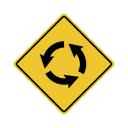Rotatoria: (13, 12, 115, 116)
